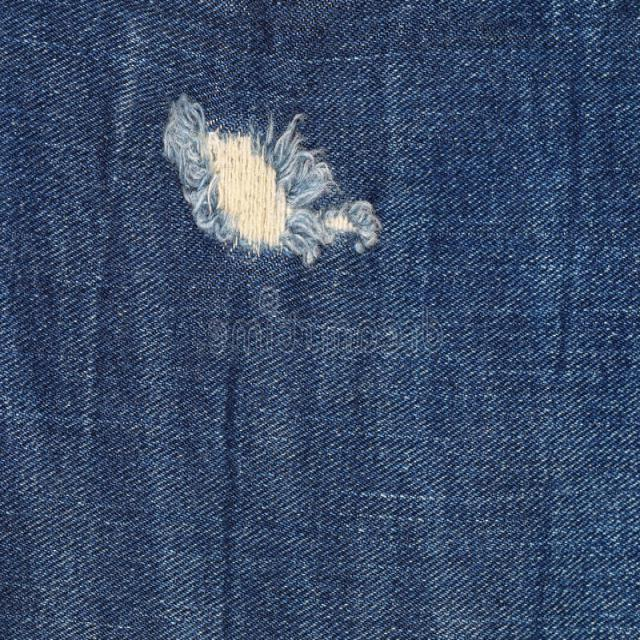Hole: (163, 94, 381, 264)
Line: (534, 61, 582, 640), (215, 318, 246, 640)
